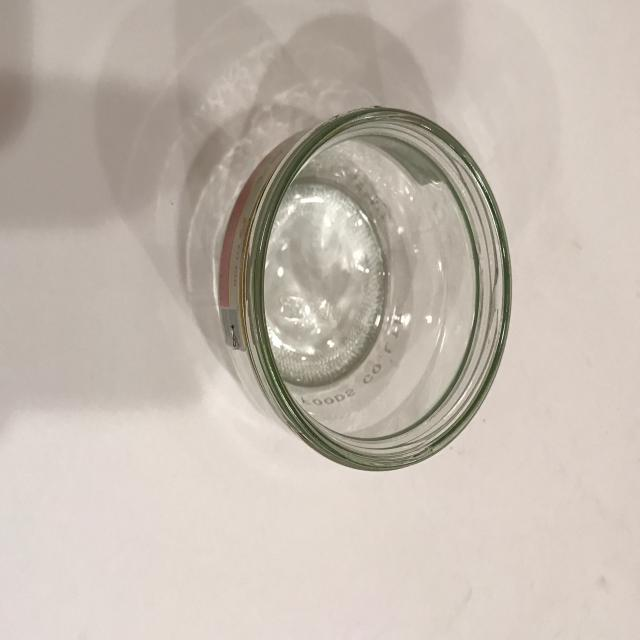glass: (210, 103, 515, 476)
